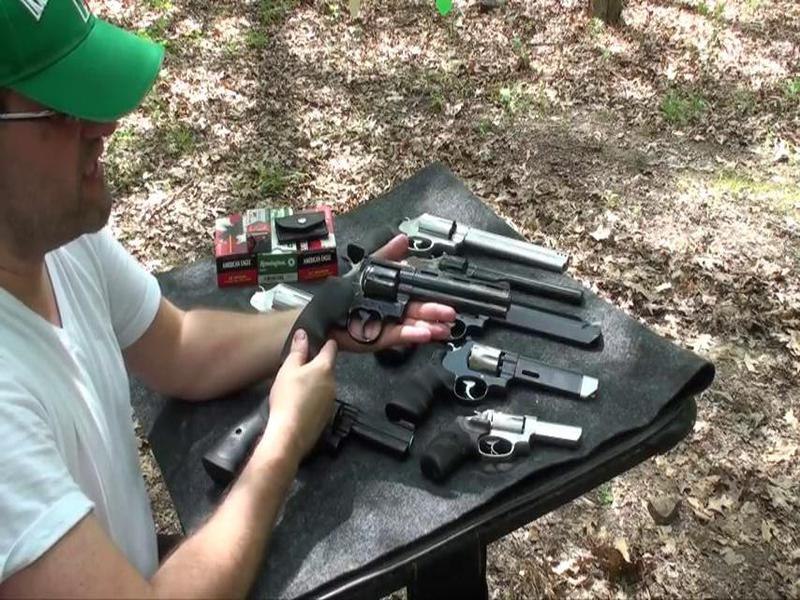Revolver: (295, 252, 526, 374)
